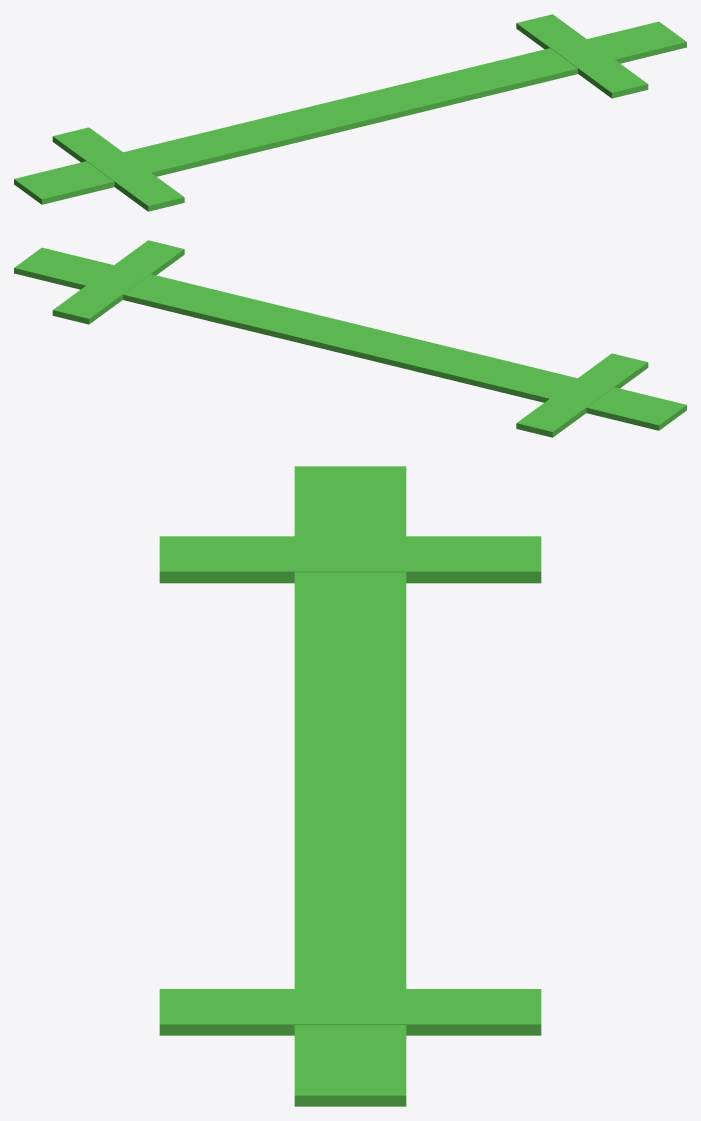
The model's file is route.hold_short.glb.
3 views of the same model, one above another, from view 1: azimuth 30°, elevation 25°; view 2: azimuth 150°, elevation 25°; view 3: azimuth 270°, elevation 25° (orthographic). The views are drawn at different scales.
Parts seen in each view (by area): view 1: hold_bar, hold_tick_a, hold_tick_b; view 2: hold_bar, hold_tick_a, hold_tick_b; view 3: hold_bar, hold_tick_a, hold_tick_b.
Part boxes in pixels (x1=…): hold_bar: x1=14, y1=21, x2=686, y2=204; hold_tick_a: x1=52, y1=127, x2=184, y2=211; hold_tick_b: x1=516, y1=14, x2=648, y2=98; hold_bar: x1=14, y1=247, x2=686, y2=430; hold_tick_a: x1=516, y1=353, x2=648, y2=437; hold_tick_b: x1=52, y1=240, x2=184, y2=324; hold_bar: x1=294, y1=466, x2=406, y2=1106; hold_tick_a: x1=159, y1=536, x2=541, y2=583; hold_tick_b: x1=159, y1=989, x2=541, y2=1035.
Bounding box in the file's own units: 3.2 × 0.0275 × 0.82.
